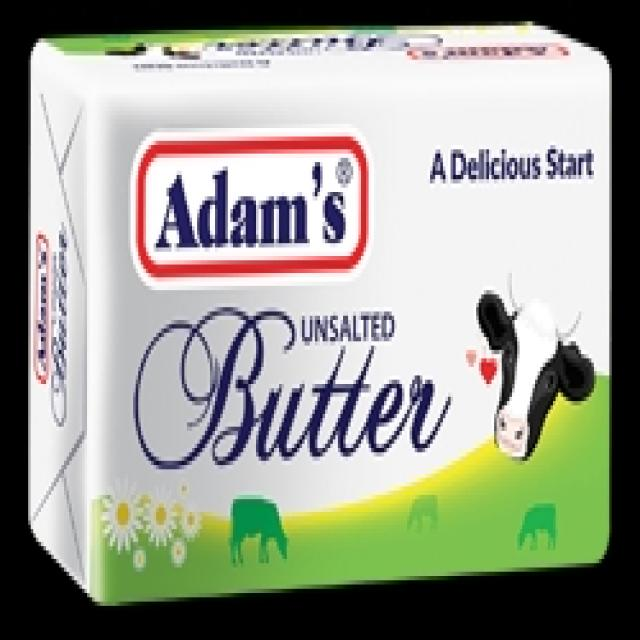butter: (26, 21, 612, 606)
